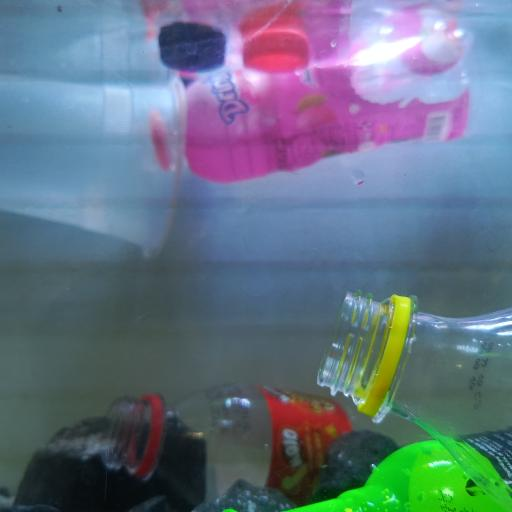bottle_cap: (158, 21, 225, 73), (244, 30, 310, 79)
plastic_bottle: (150, 32, 474, 181), (323, 286, 512, 482), (98, 395, 412, 502), (231, 433, 511, 512)
plastic_cup: (5, 75, 185, 265)
